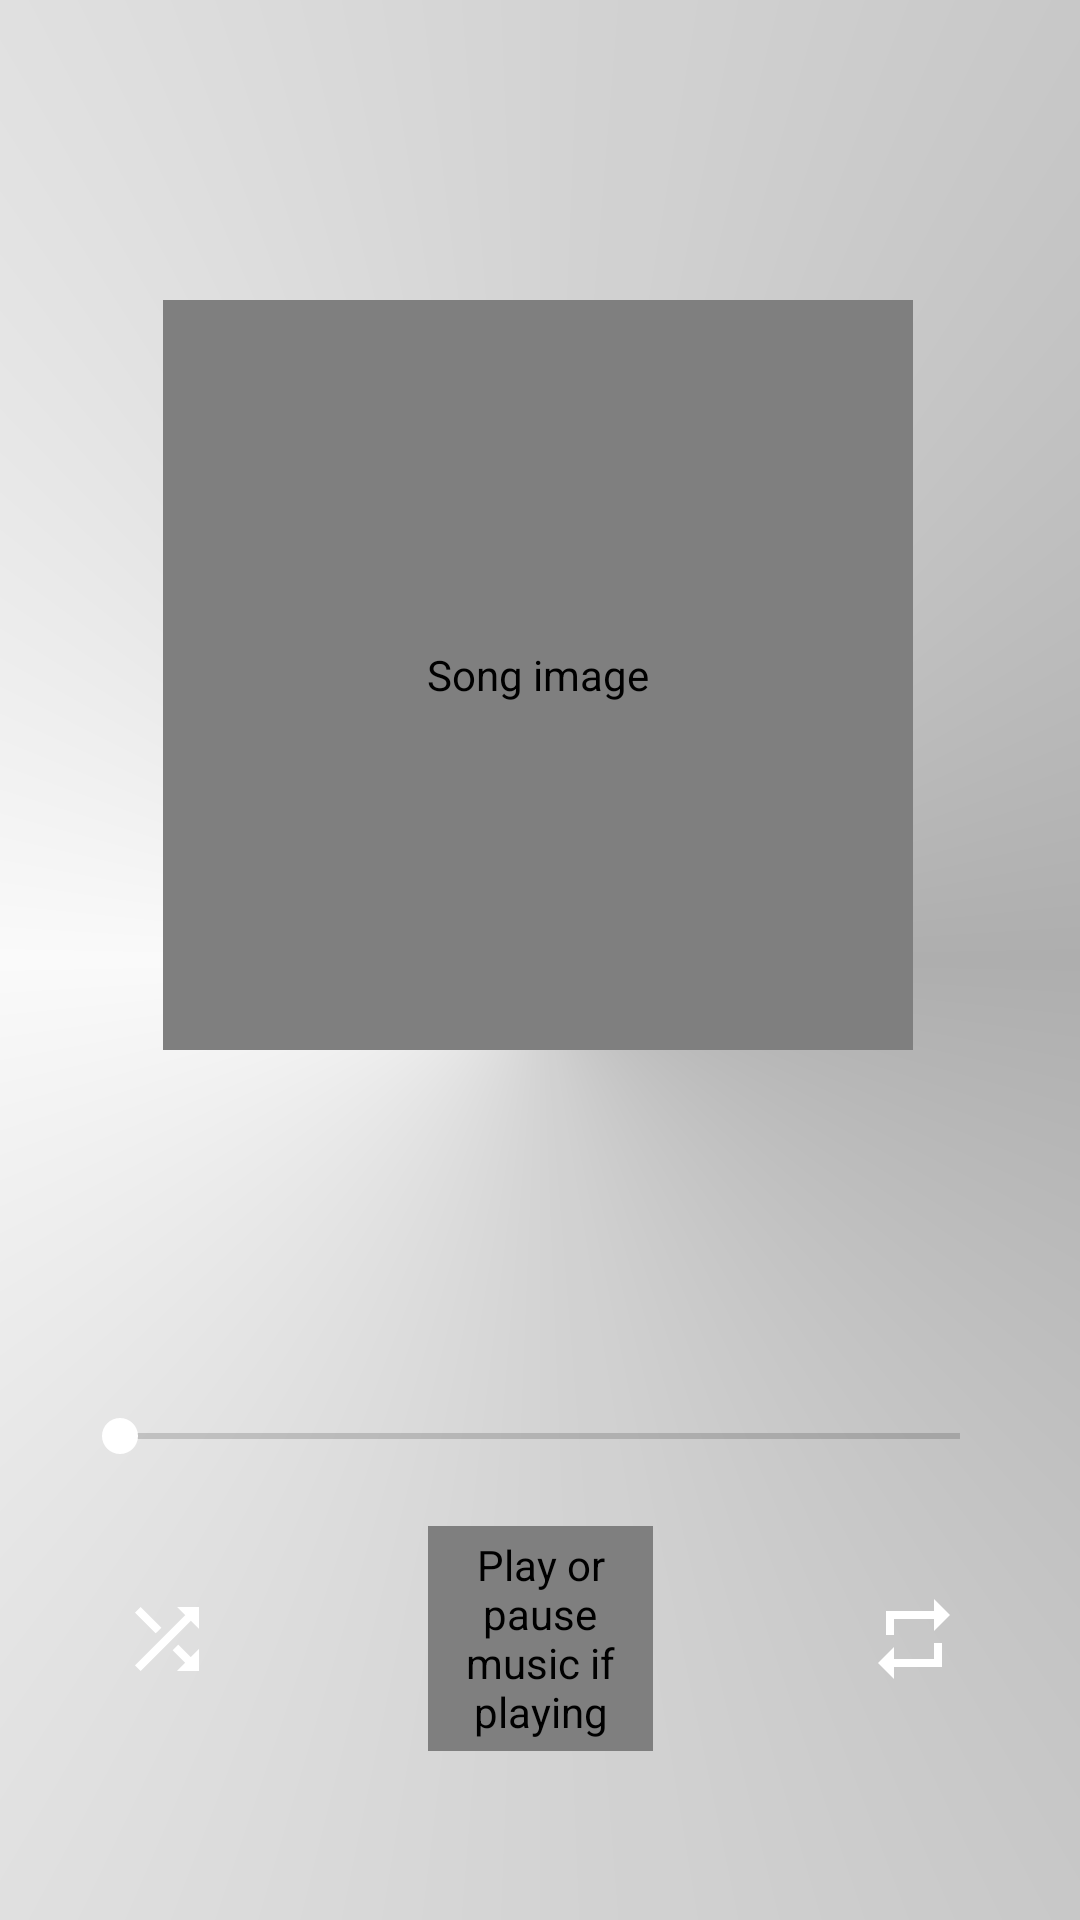

Named icons in this screenshot (1080x1920) and their bounding boxes, (x1, y1, x2, y2):
Repeat the song when it ends: (878, 1599, 950, 1679)
Shuffle songs: (136, 1607, 199, 1671)
